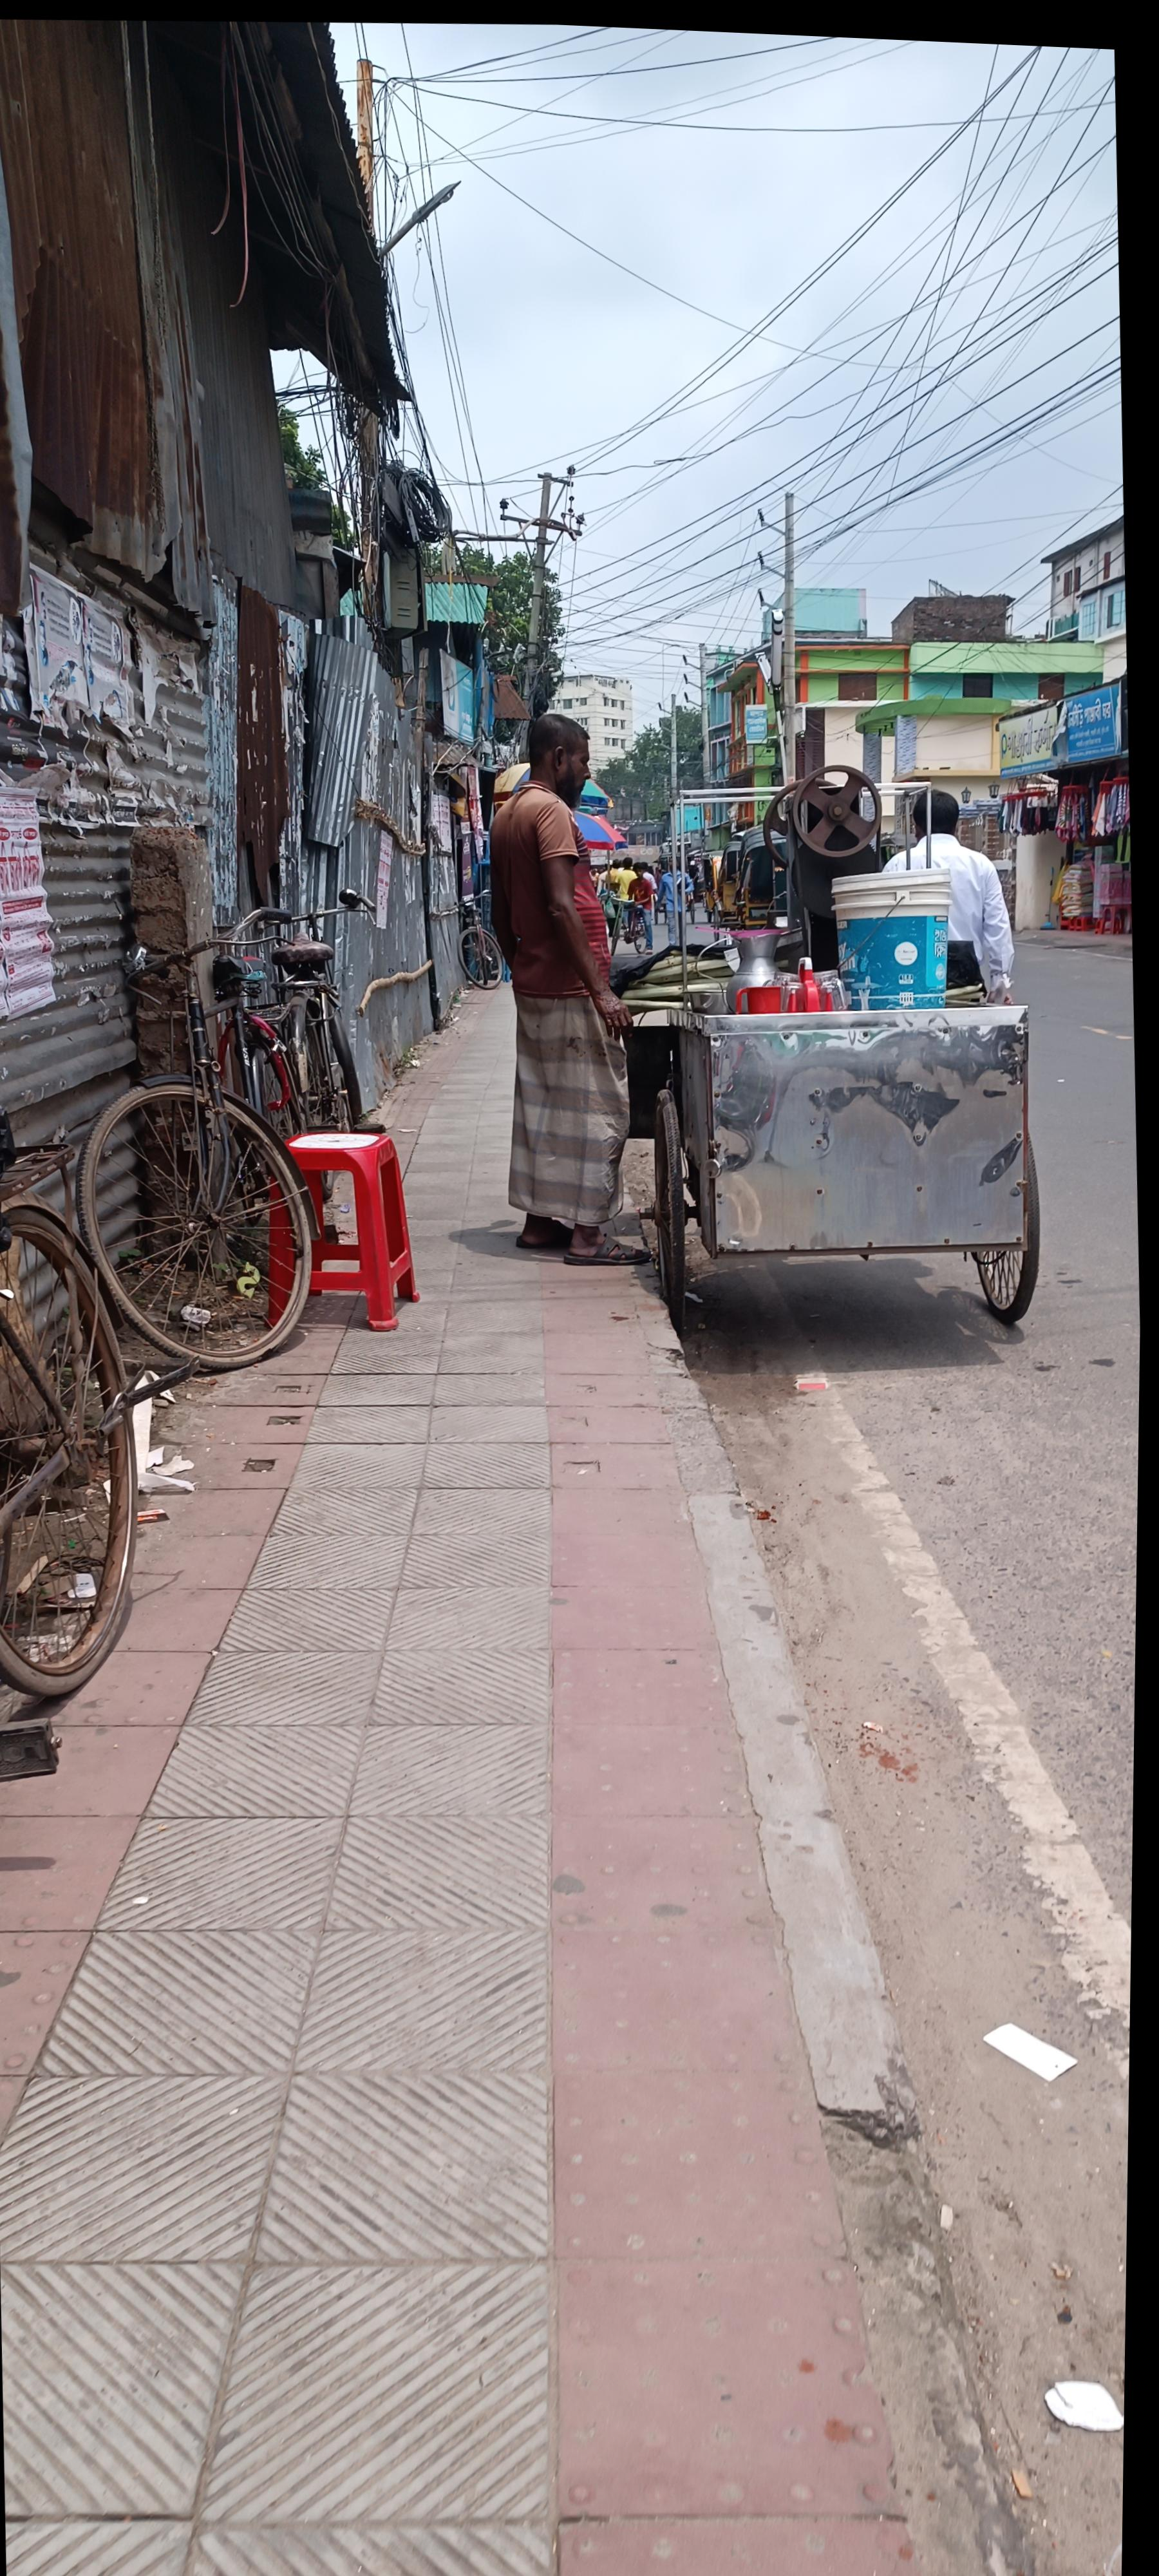Garbage: (584, 992, 1010, 1362)
Garbage-bin: (438, 720, 621, 1281), (837, 793, 978, 1019)
Pothole: (126, 935, 919, 2576)
